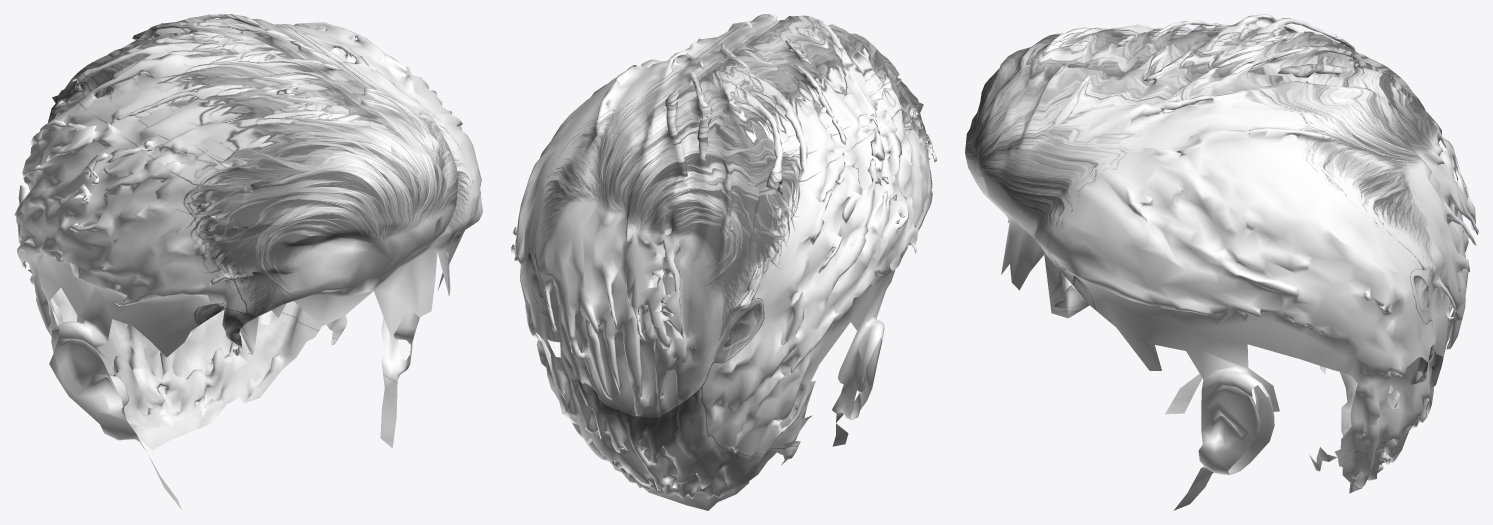
The model's file is hair_swept.glb.
3 views of the same model, side by side, from view 1: azimuth 30°, elevation 25°; view 2: azimuth 150°, elevation 25°; view 3: azimuth 270°, elevation 25° (orthographic). The views are drawn at different scales.
Visible parts, largest first — view 1: hair; view 2: hair; view 3: hair.
Part boxes in pixels (x1=…): hair: x1=14, y1=14, x2=482, y2=510; hair: x1=511, y1=14, x2=936, y2=510; hair: x1=965, y1=14, x2=1478, y2=510.
Size of the model in its own units: 0.2523 by 0.2789 by 0.2965.
Materials: 1 (1 with a texture image).
